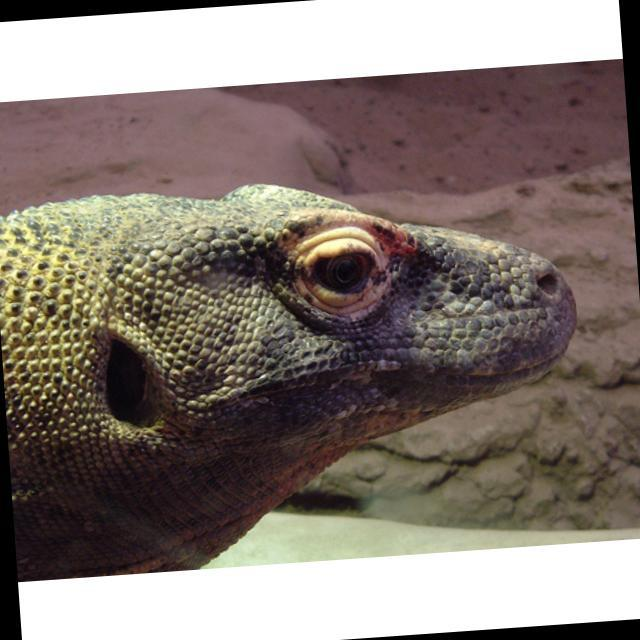KomodoDragon: (0, 157, 589, 577)
